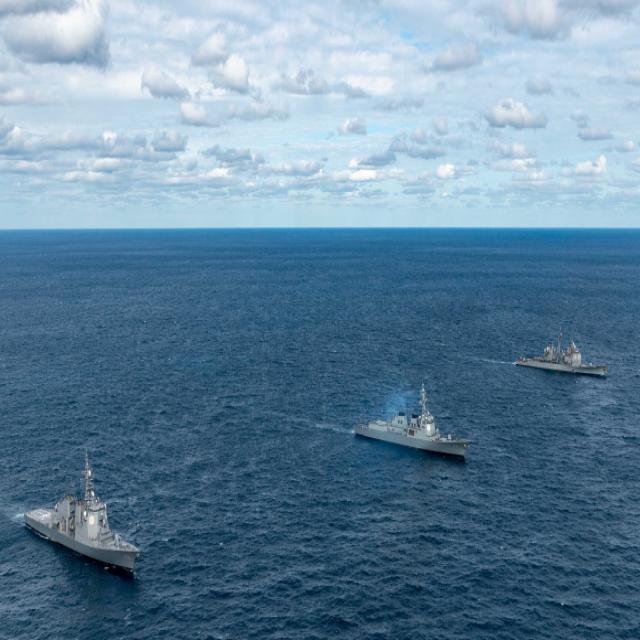ship2: (24, 453, 140, 573), (354, 382, 472, 464), (515, 326, 608, 378)
